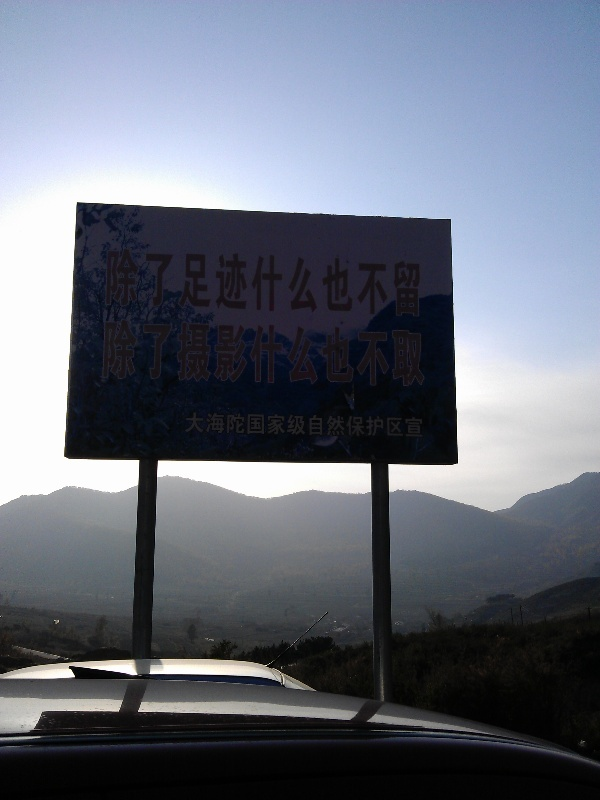text: (113, 247, 128, 321), (129, 247, 144, 321), (145, 247, 160, 321), (161, 247, 176, 321), (177, 247, 192, 321), (193, 247, 208, 321), (209, 247, 224, 321), (225, 247, 240, 321), (241, 247, 256, 321), (257, 247, 272, 321), (273, 247, 288, 321), (289, 247, 304, 321), (305, 247, 320, 321), (321, 247, 336, 321), (337, 247, 352, 321), (353, 247, 368, 321), (369, 247, 384, 321), (385, 247, 400, 321), (401, 247, 416, 321), (113, 319, 128, 392), (129, 319, 144, 392), (145, 319, 160, 392), (161, 319, 176, 392), (177, 319, 192, 392), (193, 319, 208, 392), (209, 319, 224, 392), (225, 319, 240, 392), (241, 319, 256, 392), (257, 319, 272, 392), (273, 319, 288, 392), (289, 319, 304, 392), (305, 319, 320, 392), (321, 319, 336, 392), (337, 319, 352, 392), (353, 319, 368, 392), (369, 319, 384, 392), (385, 319, 400, 392), (401, 319, 416, 392), (417, 319, 428, 392), (102, 319, 112, 392), (104, 247, 112, 321), (417, 247, 425, 321), (193, 410, 208, 440), (209, 410, 224, 440), (225, 410, 240, 440), (241, 410, 256, 440), (257, 410, 272, 440), (273, 410, 288, 440), (289, 410, 304, 440), (305, 410, 320, 440), (321, 410, 336, 440), (337, 410, 352, 440), (353, 410, 368, 440), (369, 410, 384, 440), (385, 410, 400, 440), (401, 410, 416, 440), (184, 410, 192, 440), (417, 410, 425, 440)
